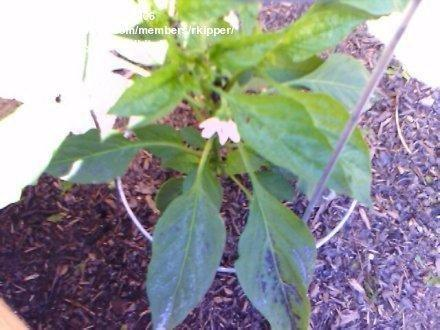Bell_pepper leaf spot: (228, 90, 373, 209), (234, 186, 315, 330), (144, 192, 227, 330), (269, 2, 391, 51), (44, 133, 138, 182), (101, 68, 185, 116)
